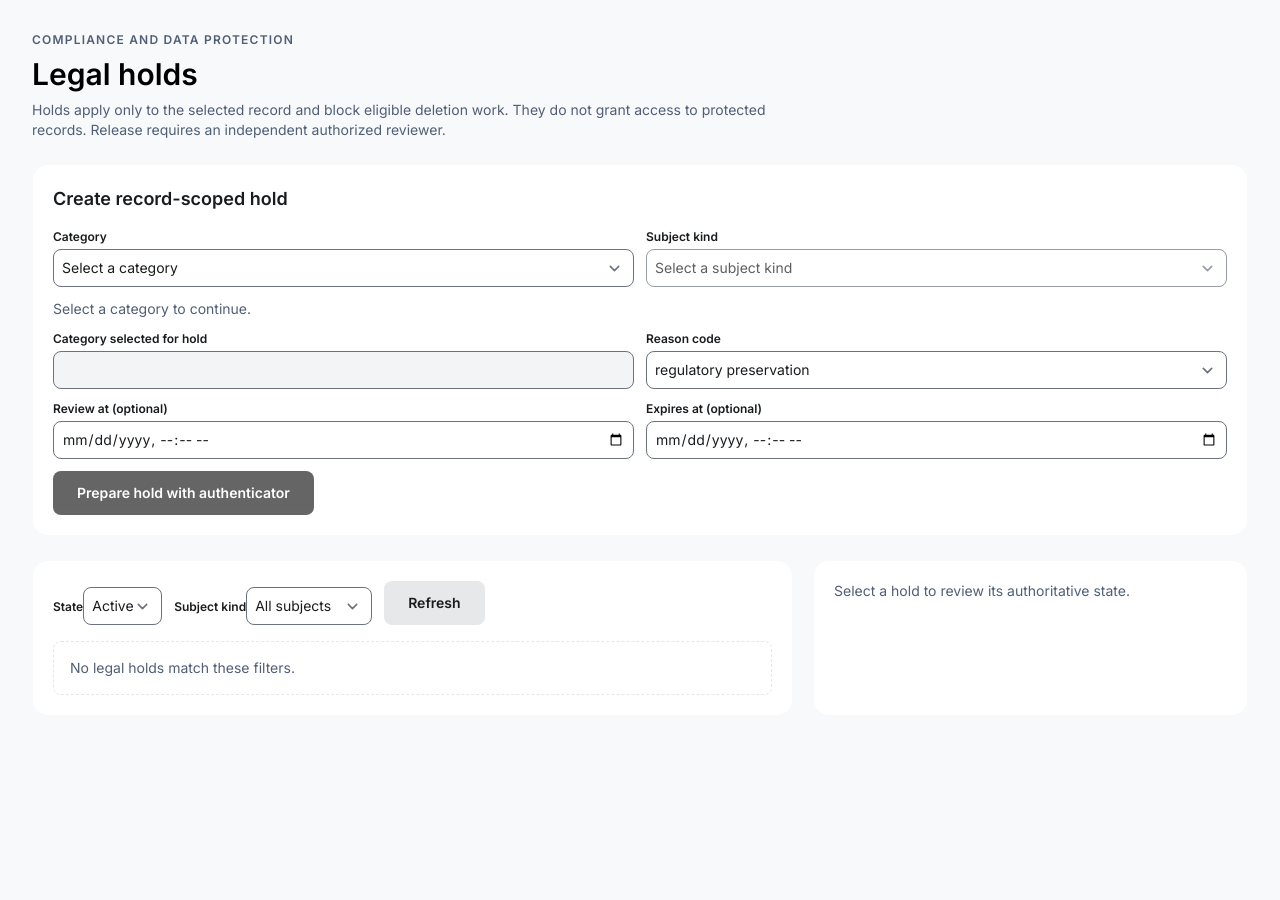
Test: admin legal-hold subject selector › shows an empty state for litigation_record without substituting another subject kind
Select "Regulatory and litigation" in the dropdown labelled "Category". click: x=344, y=268
box: [53,249,634,287]
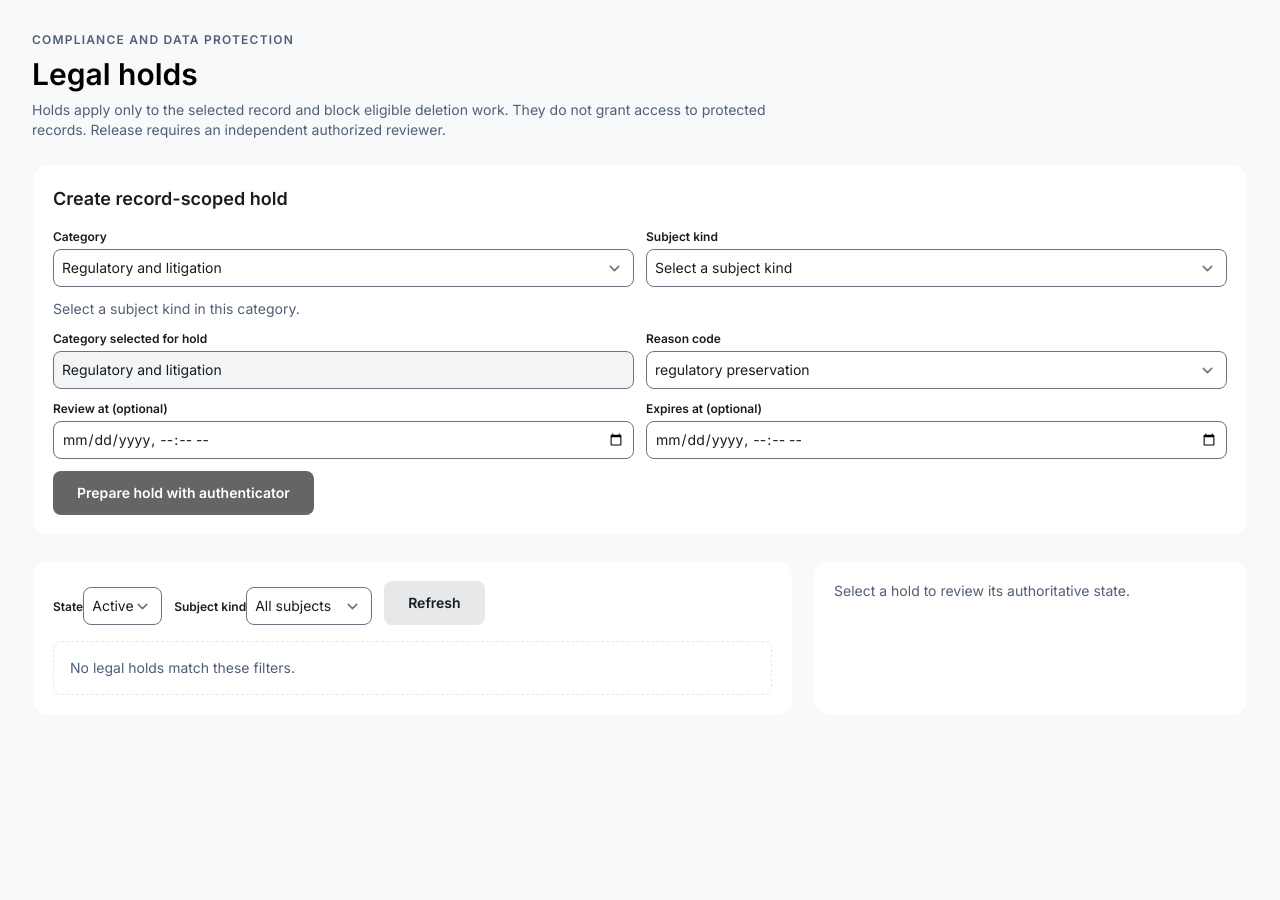
Select "Litigation record" in the 1st dropdown labelled "Subject kind". click: x=936, y=268
box: [646,249,1227,287]
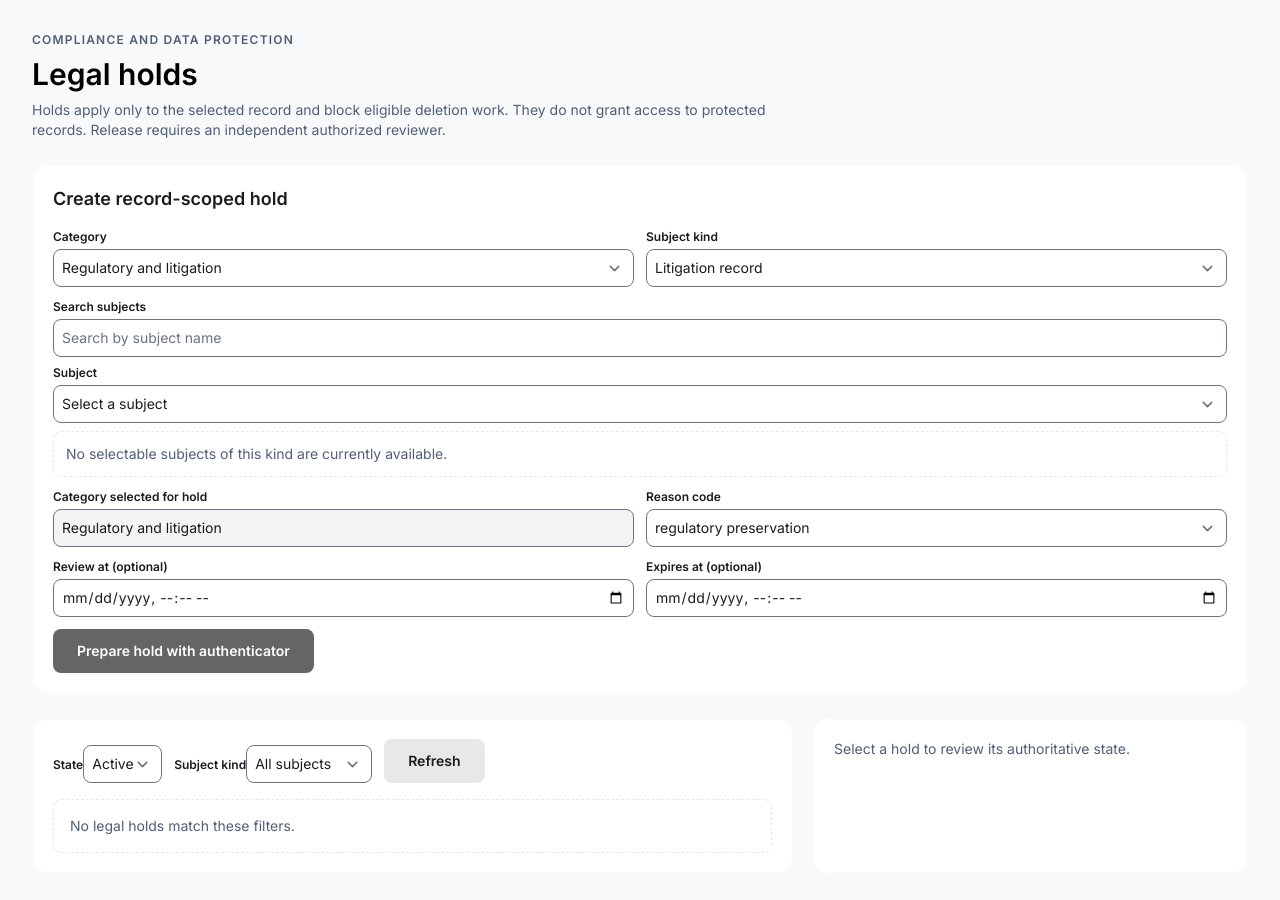
Now the text "No selectable subjects of this kind are currently available." is shown, box [53,431,1227,477]
